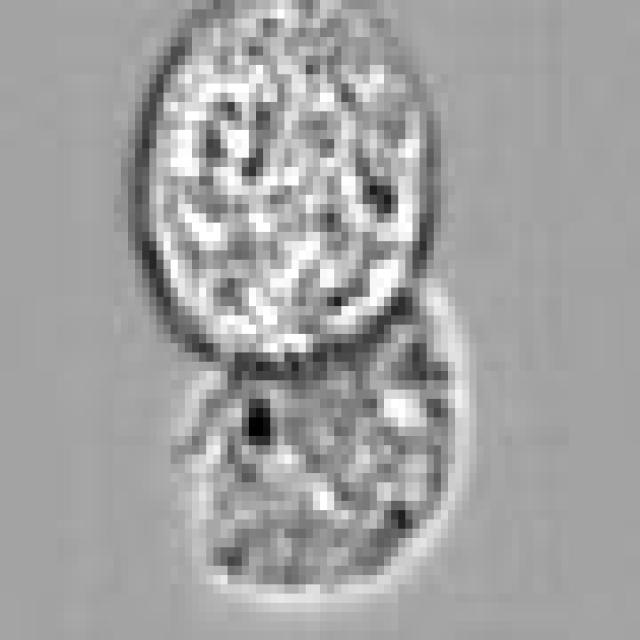Cancer Cell: (135, 10, 434, 352)
WBC: (178, 278, 462, 594)
